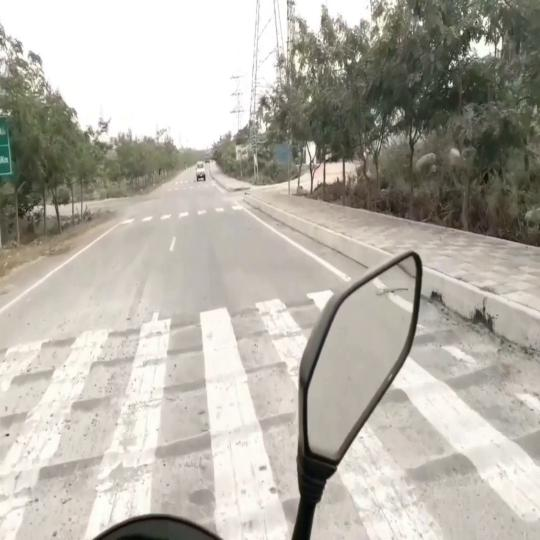Speed Bump: (0, 404, 296, 492), (0, 358, 295, 430), (1, 294, 303, 356), (8, 325, 298, 368), (376, 420, 540, 484), (406, 358, 520, 404), (418, 312, 472, 351)
